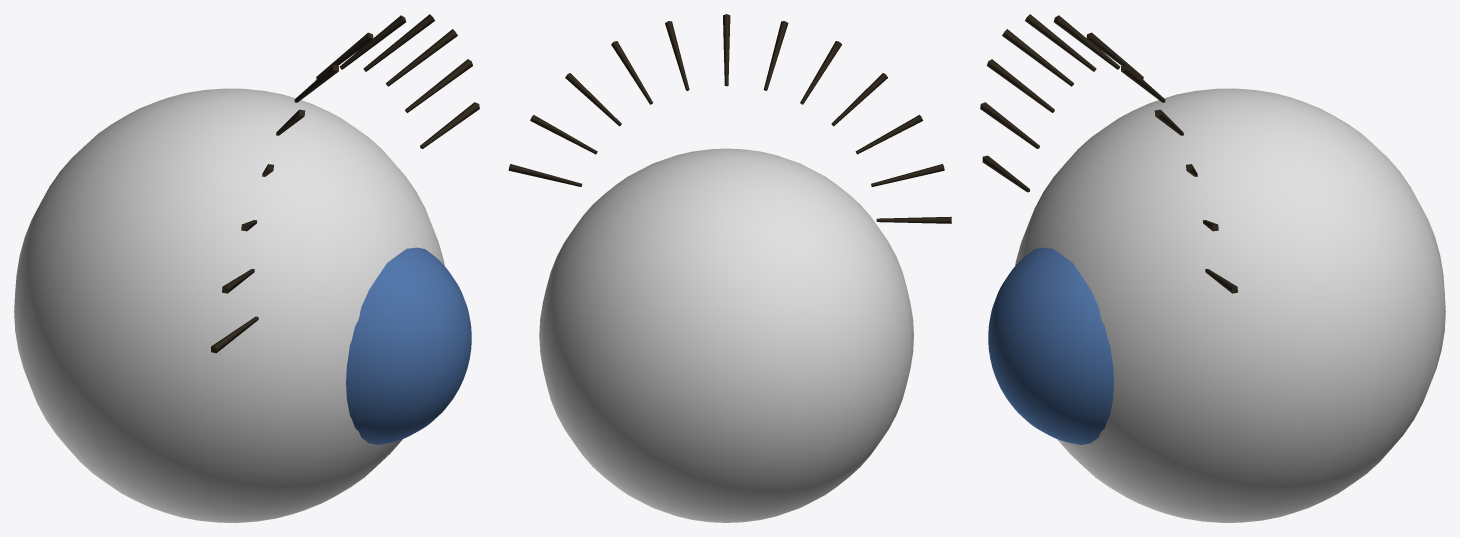
File: eye.glb
3 renders of one model, left to right at view 1: azimuth 30°, elevation 25°; view 2: azimuth 150°, elevation 25°; view 3: azimuth 270°, elevation 25°, orthographic. The views are drawn at different scales.
Size of the model in its own units: 1.16 by 1.28 by 1.07.
